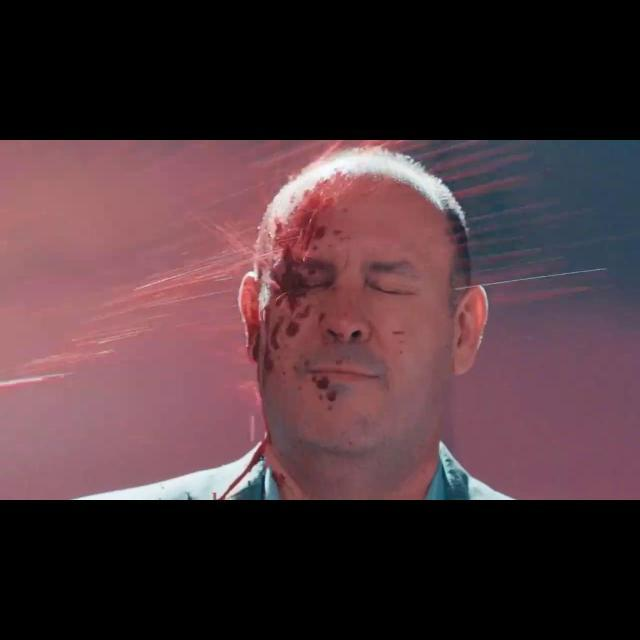blood: (0, 140, 640, 499), (132, 147, 470, 500)
